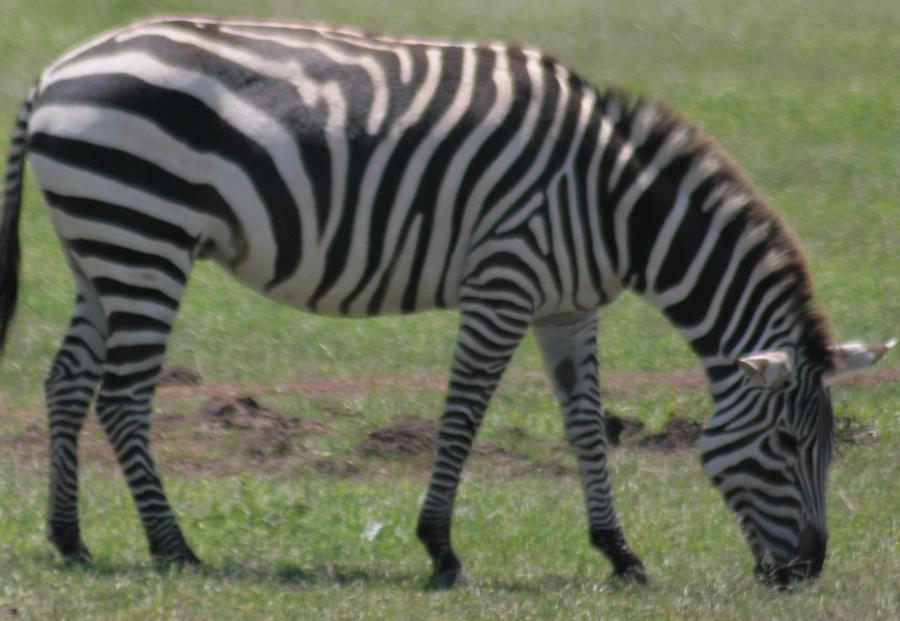zebra_plains: (22, 10, 630, 306)
